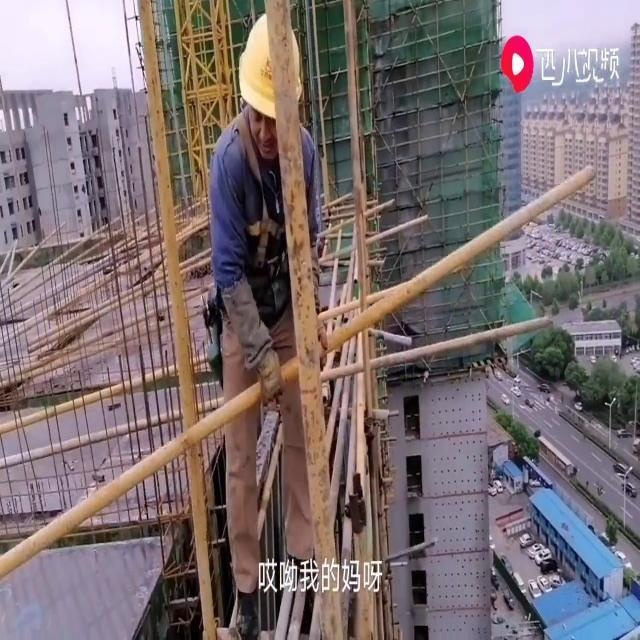Arnes_seguridad: (216, 102, 290, 297)
